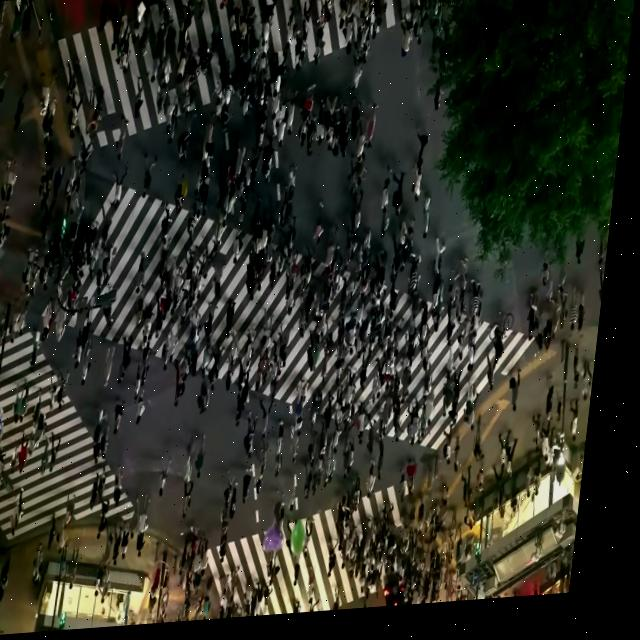balloon: (303, 520, 322, 561), (276, 526, 297, 559)
